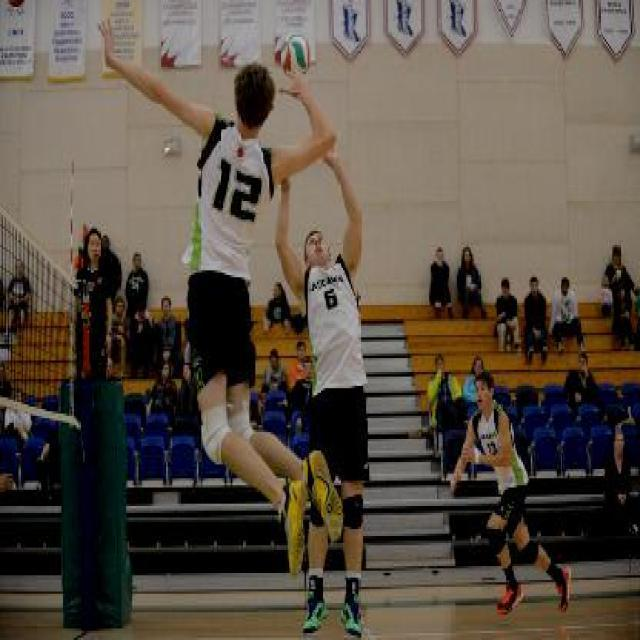volleyball: (274, 32, 310, 76)
